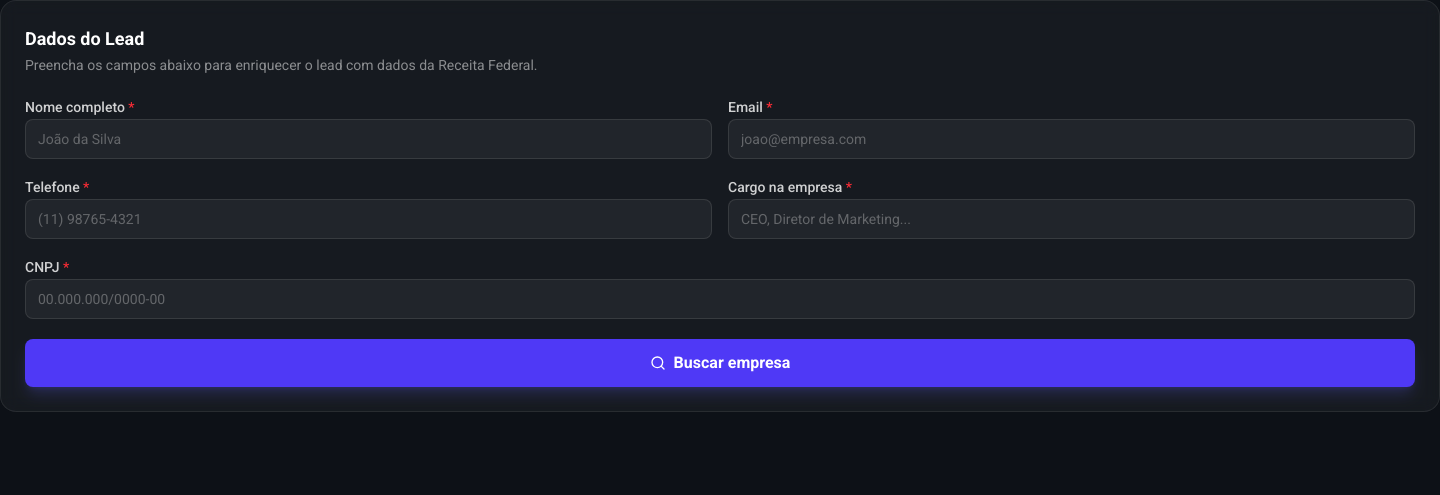
Test case: SearchForm Component › exibe erro retornado pela API caso ocorra falha na busca
Type "Teste" into the field labelled "Nome completo *" at point(368, 139), box [25,119,712,159]
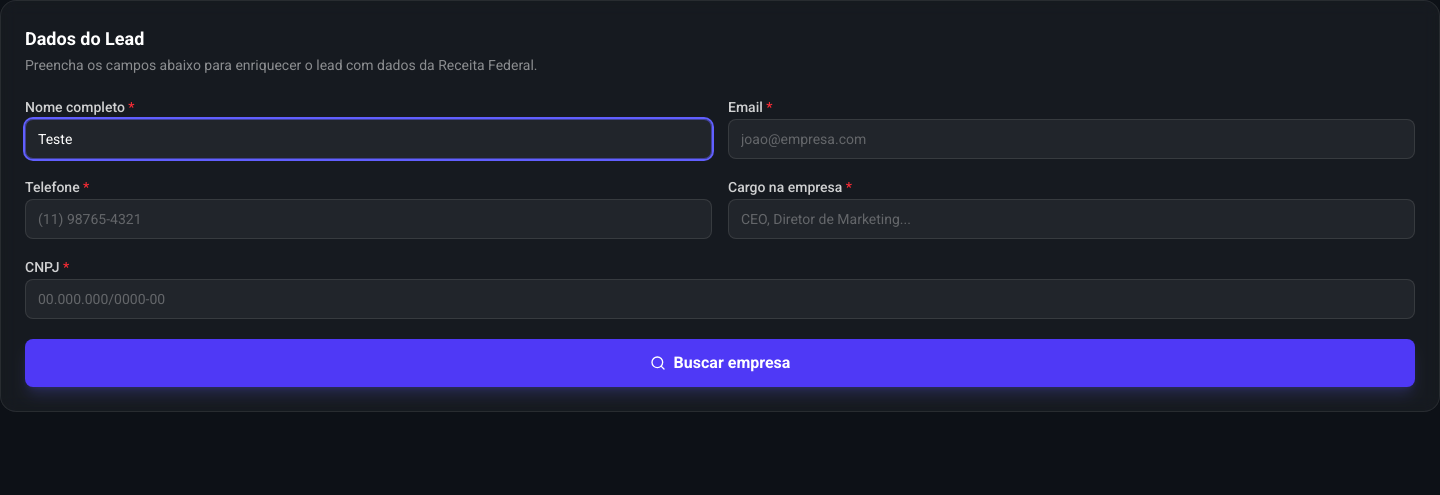
Type "teste@teste.com" into the field labelled "Email *" at point(1072, 139), box [728,119,1415,159]
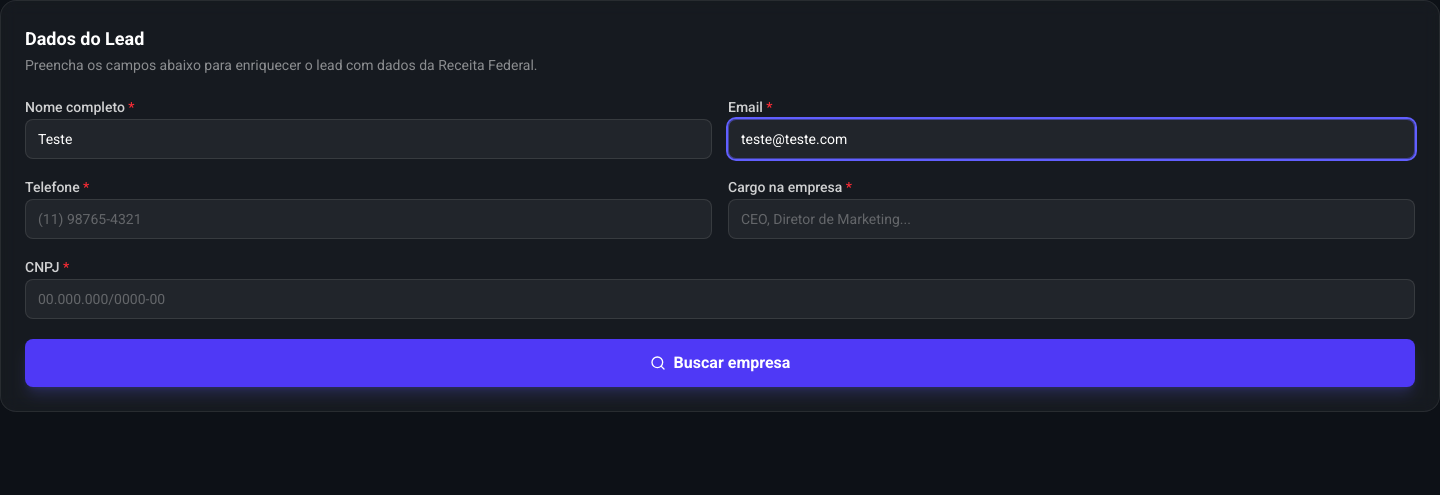
Type "11999999999" into the field labelled "Telefone *" at point(368, 219), box [25,199,712,239]
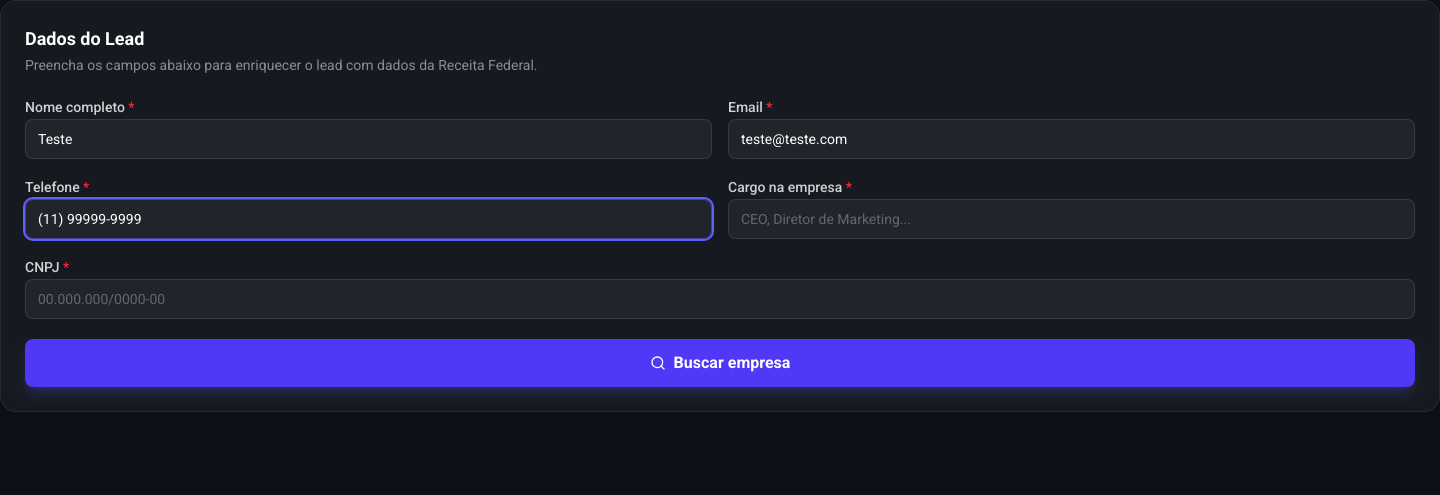
Type "Dev" into the field labelled "Cargo na empresa *" at point(1072, 219), box [728,199,1415,239]
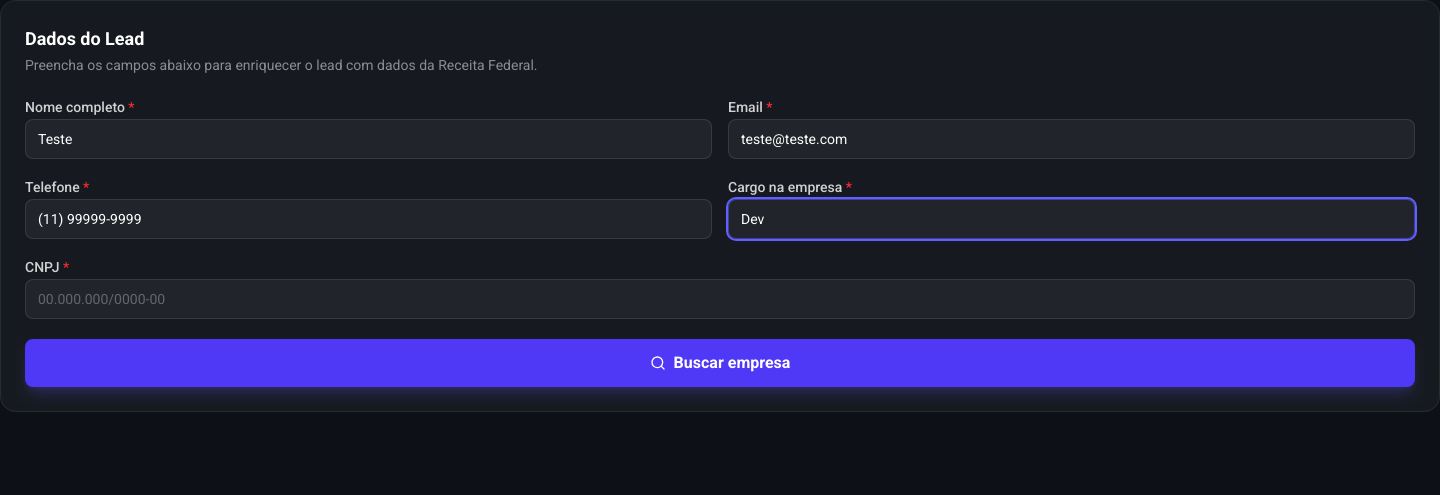
Type "11111111111111" into the field labelled "CNPJ *" at point(720, 299), box [25,279,1415,319]
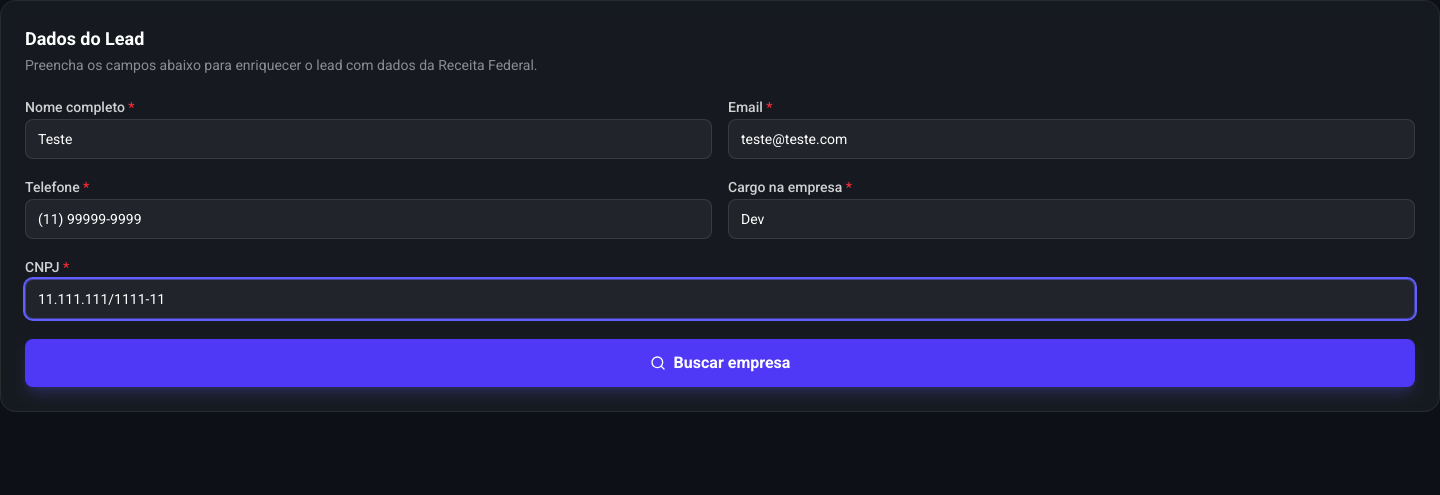
Click the button "Buscar empresa" at point(720, 363), box [25,339,1415,387]
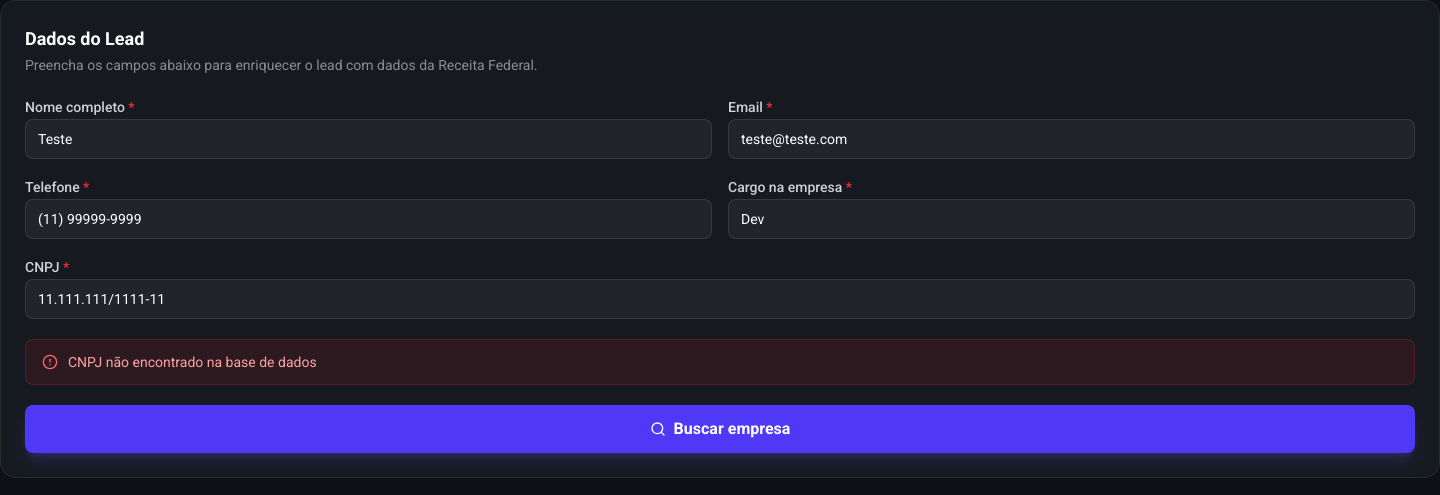
Expected: the text "CNPJ não encontrado na base de dados" is shown, [68,352,317,372]
